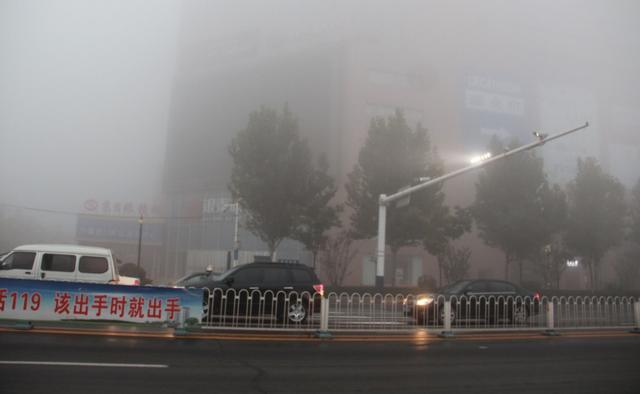car: (180, 256, 326, 324), (1, 242, 121, 305), (401, 276, 541, 327), (145, 266, 258, 317)
